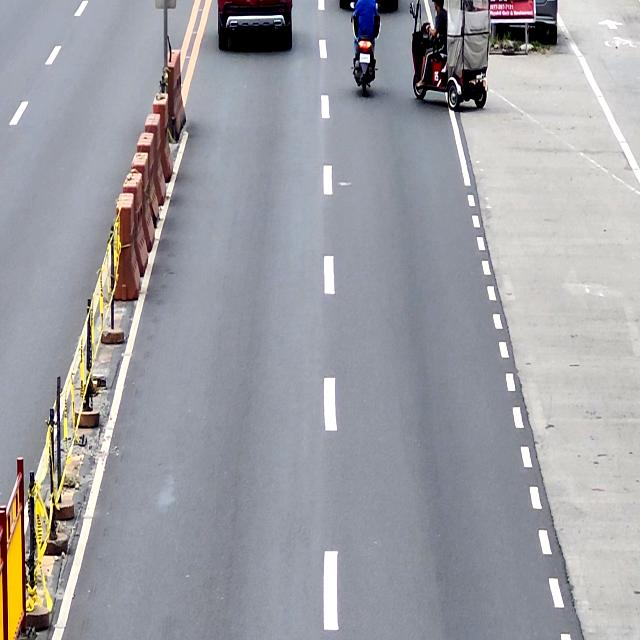Car: (215, 0, 295, 49)
E-bike: (409, 0, 493, 112)
License-Plate: (358, 52, 371, 64)
Motorcycle: (352, 7, 378, 91)
